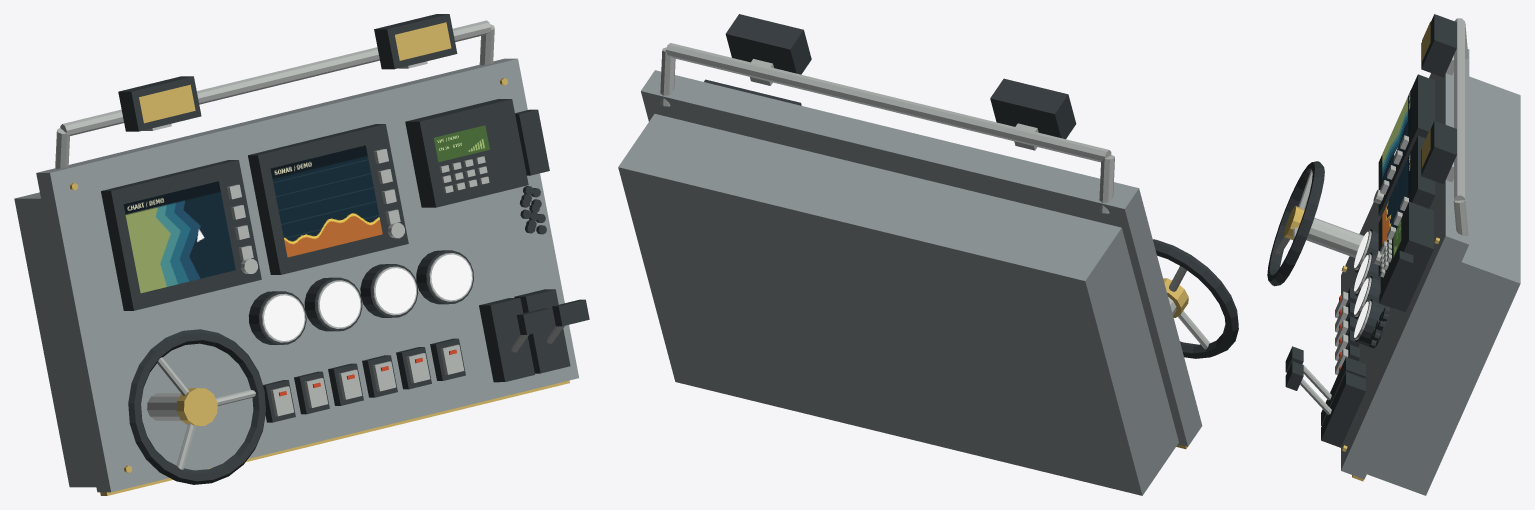
Rendered from Sitka_Maximum_Helm.glb.
3 views of the same model, side by side, from view 1: azimuth 30°, elevation 25°; view 2: azimuth 150°, elevation 25°; view 3: azimuth 270°, elevation 25° (orthographic). The views are drawn at different scales.
Parts seen in each view (by area): view 1: console display plate, display 0 mode surface, display 1 mode surface, display 1 removable mount, display 0 removable mount, VHF radio module, console lower housing, steering wheel rim, protective rail crossbar, throttle mounting block, throttle mounting block.001, work light cube (+23 smaller); view 2: console lower housing, console display plate, protective rail crossbar, work light cube, work light cube.001, steering wheel rim, protective rail upright; view 3: console lower housing, console display plate, steering wheel rim, VHF radio module, display 0 removable mount, throttle mounting block.001, protective rail crossbar, work light cube, work light cube.001, display 1 removable mount, wheel steering column, display 0 mode surface (+10 smaller).
Boxes of the visible parts, bbox=[...] form: console display plate: bbox=[36, 58, 578, 492]; display 0 mode surface: bbox=[123, 181, 235, 293]; display 1 mode surface: bbox=[270, 145, 382, 257]; display 1 removable mount: bbox=[248, 124, 408, 274]; display 0 removable mount: bbox=[101, 160, 261, 310]; VHF radio module: bbox=[405, 99, 528, 207]; console lower housing: bbox=[14, 192, 96, 487]; steering wheel rim: bbox=[128, 329, 265, 484]; protective rail crossbar: bbox=[60, 20, 491, 135]; throttle mounting block: bbox=[479, 298, 534, 382]; throttle mounting block.001: bbox=[514, 289, 570, 373]; work light cube: bbox=[118, 76, 201, 131]; console lower housing: bbox=[618, 114, 1178, 495]; console display plate: bbox=[641, 70, 1202, 446]; protective rail crossbar: bbox=[665, 43, 1111, 162]; work light cube: bbox=[990, 78, 1076, 139]; work light cube.001: bbox=[725, 14, 811, 74]; steering wheel rim: bbox=[1153, 239, 1238, 358]; protective rail upright: bbox=[1099, 155, 1114, 213]; console lower housing: bbox=[1367, 76, 1520, 495]; console display plate: bbox=[1341, 49, 1469, 479]; steering wheel rim: bbox=[1267, 161, 1324, 286]; VHF radio module: bbox=[1380, 201, 1433, 312]; display 0 removable mount: bbox=[1378, 74, 1435, 216]; throttle mounting block.001: bbox=[1321, 371, 1365, 447]; protective rail crossbar: bbox=[1454, 18, 1464, 200]; work light cube: bbox=[1421, 14, 1456, 77]; work light cube.001: bbox=[1421, 121, 1456, 184]; display 1 removable mount: bbox=[1378, 135, 1435, 277]; wheel steering column: bbox=[1306, 217, 1363, 257]; display 0 mode surface: bbox=[1382, 89, 1411, 183].
Bounding box in the file's own units: 1.75 × 1.32 × 0.9424.
9 materials, 3 textured.
